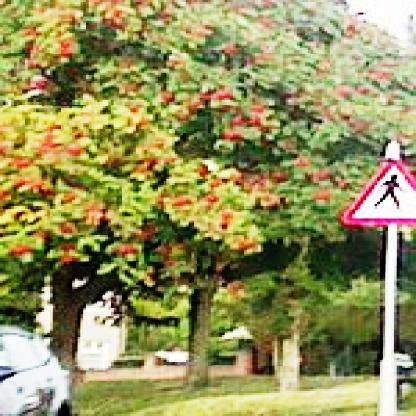Pedestrian Crossing: (348, 137, 416, 242)
